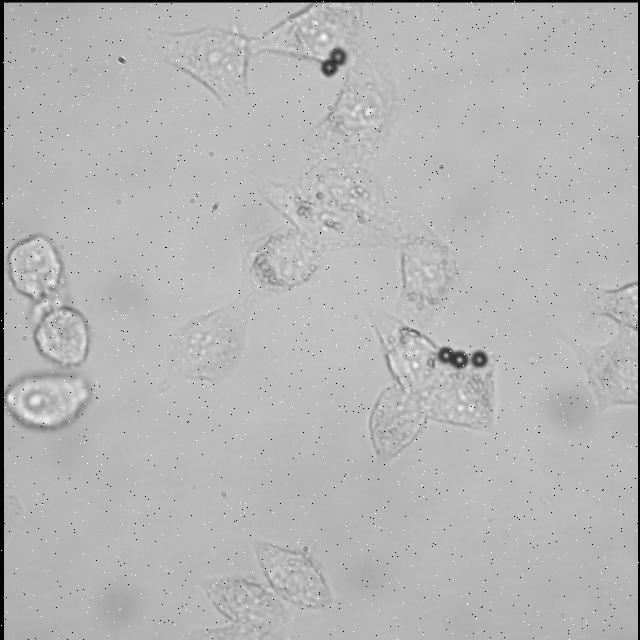microbeads: (468, 350, 488, 376), (316, 59, 338, 81), (434, 344, 454, 364), (327, 46, 348, 64), (449, 352, 467, 368)
